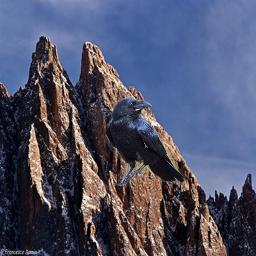Crow: (105, 97, 187, 186)
